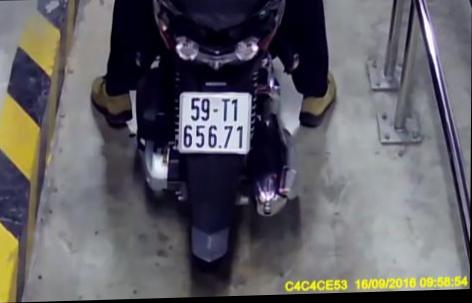LP: (179, 91, 251, 157)
